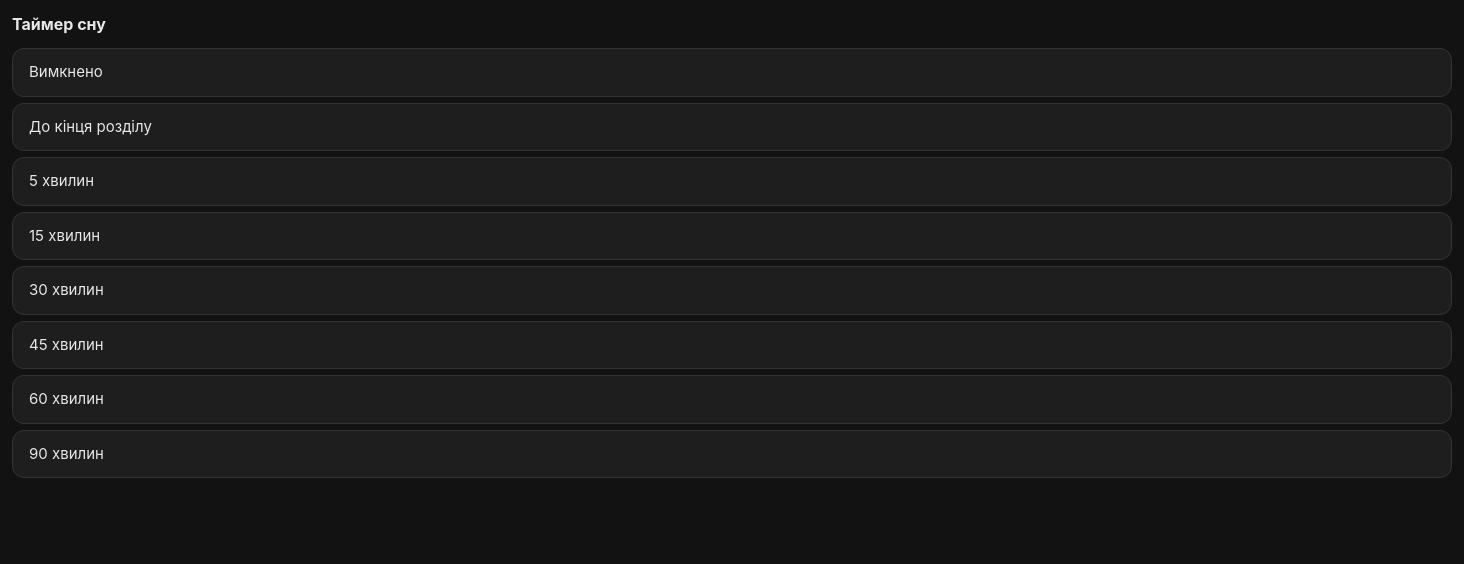
SleepTimerPane › extending a countdown preserves the exact remainder (Android`s +15 rule)
This screenshot has width=1464, height=564.
Step 1. Click the radio button "5 хвилин" → x=61, y=180, box [12,157,1452,206]
Wait 18000 ms
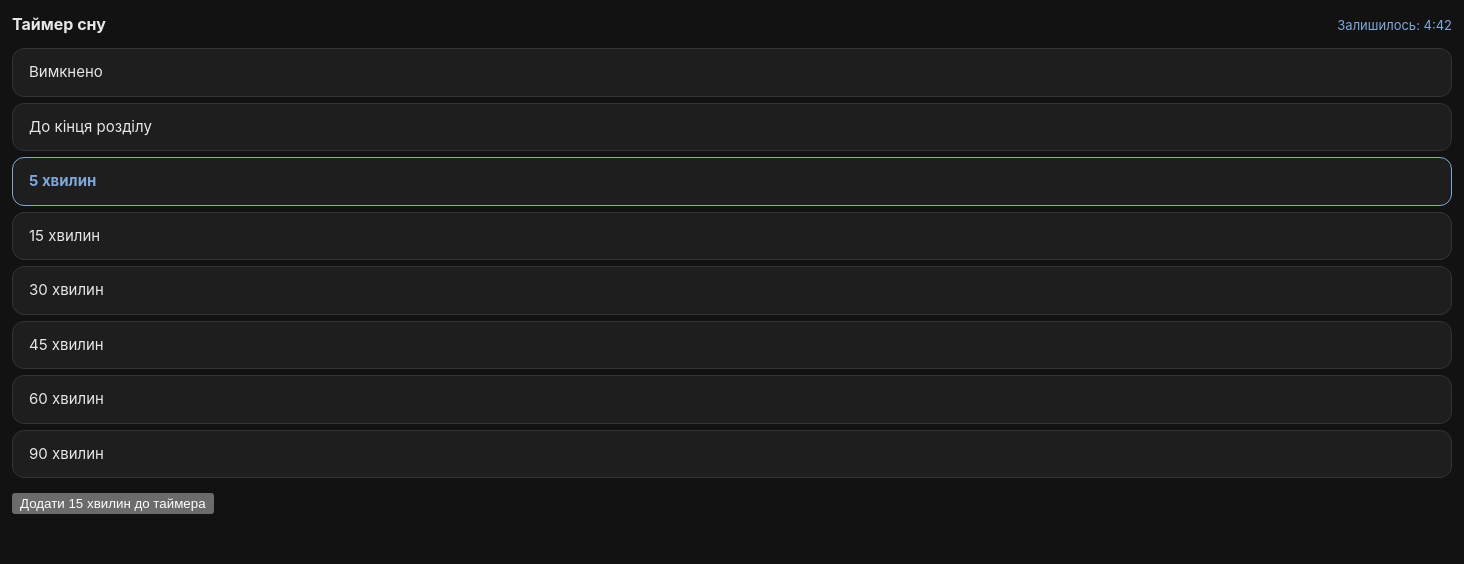
Step 2. Click the button "Додати 15 хвилин до таймера" → x=113, y=504, box [12,493,214,514]
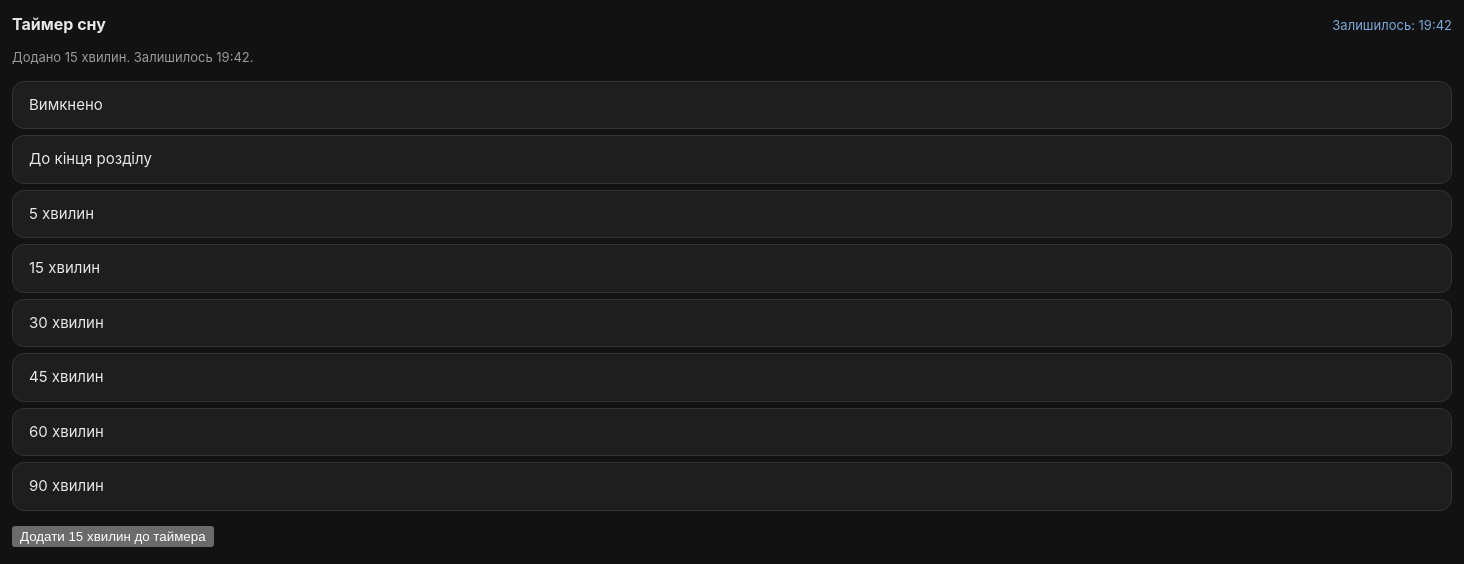
Expected: the text "Залишилось: 19:42" is shown, [1332,16,1452,36]
